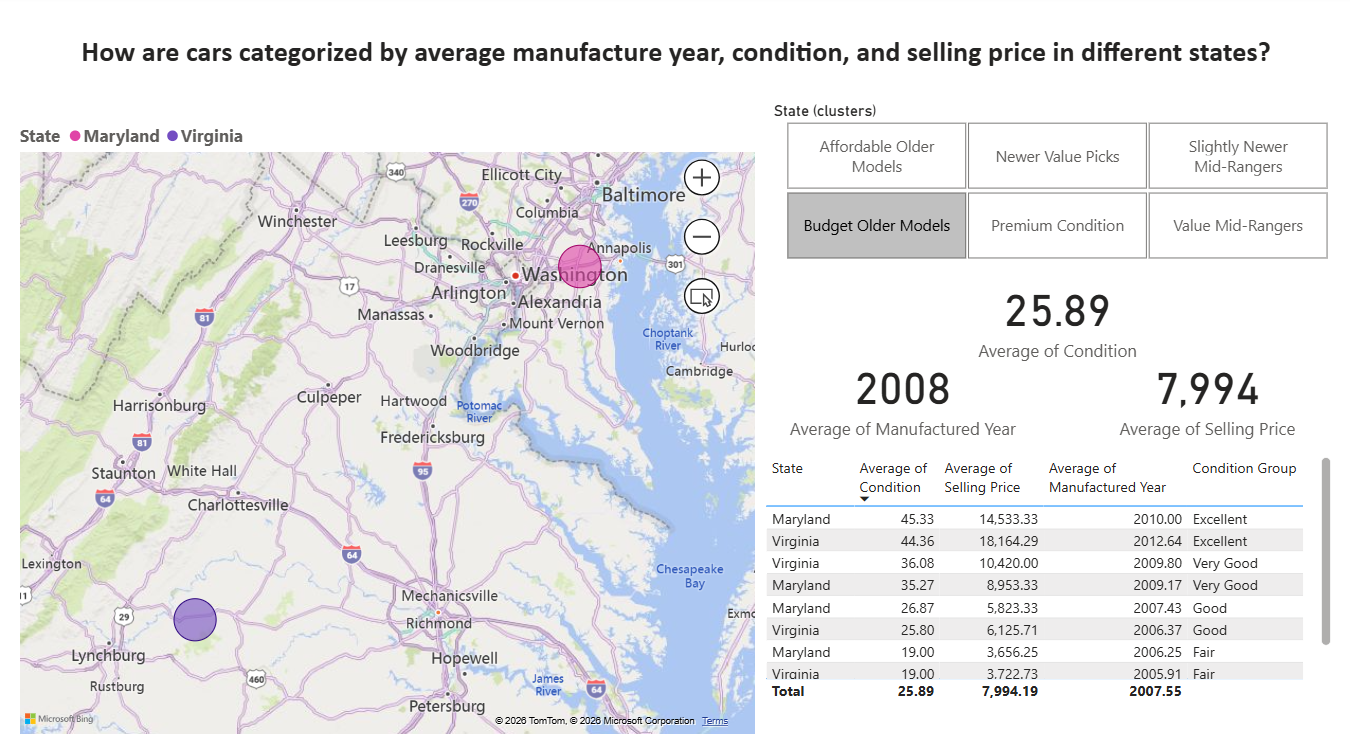

Layout of this report page (visuals, bound fields, positions):
{"tool":"powerbi","page":{"name":"Question 3","canvas":[1280,720],"ordinal":5},"visuals":[{"type":"slicer","fields":{"Values":["car_prices_sample.State (clusters)"]},"box":[720,96,560,160],"z":0},{"type":"tableEx","fields":{"Values":["car_prices_sample.State","Avg(car_prices_sample.Condition)","Avg(car_prices_sample.Selling Price)","Avg(car_prices_sample.Manufactured Year)","car_prices_sample.Condition Group"]},"box":[720,432,544,288],"z":1000},{"type":"card","fields":{"Values":["Avg(car_prices_sample.Condition)"]},"box":[912,256,176,96],"z":2000},{"type":"card","fields":{"Values":["Avg(car_prices_sample.Manufactured Year)"]},"box":[717.9,330.4,272,96],"z":3000},{"type":"card","fields":{"Values":["Avg(car_prices_sample.Selling Price)"]},"box":[1005.9,330.4,272,96],"z":4000},{"type":"textbox","box":[32,32,1216,64],"z":5000},{"type":"map","fields":{"Category":["car_prices_sample.State"],"Series":["car_prices_sample.State"],"Size":["CountNonNull(car_prices_sample.Condition)"]},"box":[16,112,704,592],"z":6000}]}

Visuals, with their boxes in screenshot pixels (x1, y1, x2, y2), scaled from the page's 1280x720 canvas onto the 1350x751 screenshot:
slicer - car_prices_sample.State (clusters): 759/100/1349/267
tableEx - car_prices_sample.State x Avg(car_prices_sample.Condition): 759/451/1333/750
card - Avg(car_prices_sample.Condition): 962/267/1148/367
card - Avg(car_prices_sample.Manufactured Year): 757/345/1044/445
card - Avg(car_prices_sample.Selling Price): 1061/345/1348/445
textbox: 34/33/1316/100
map - car_prices_sample.State x car_prices_sample.State: 17/117/759/734
